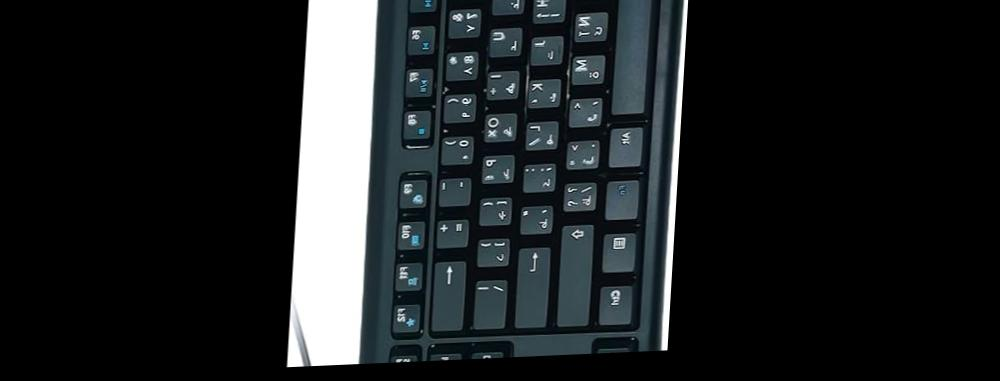keyboard: (347, 0, 690, 365)
